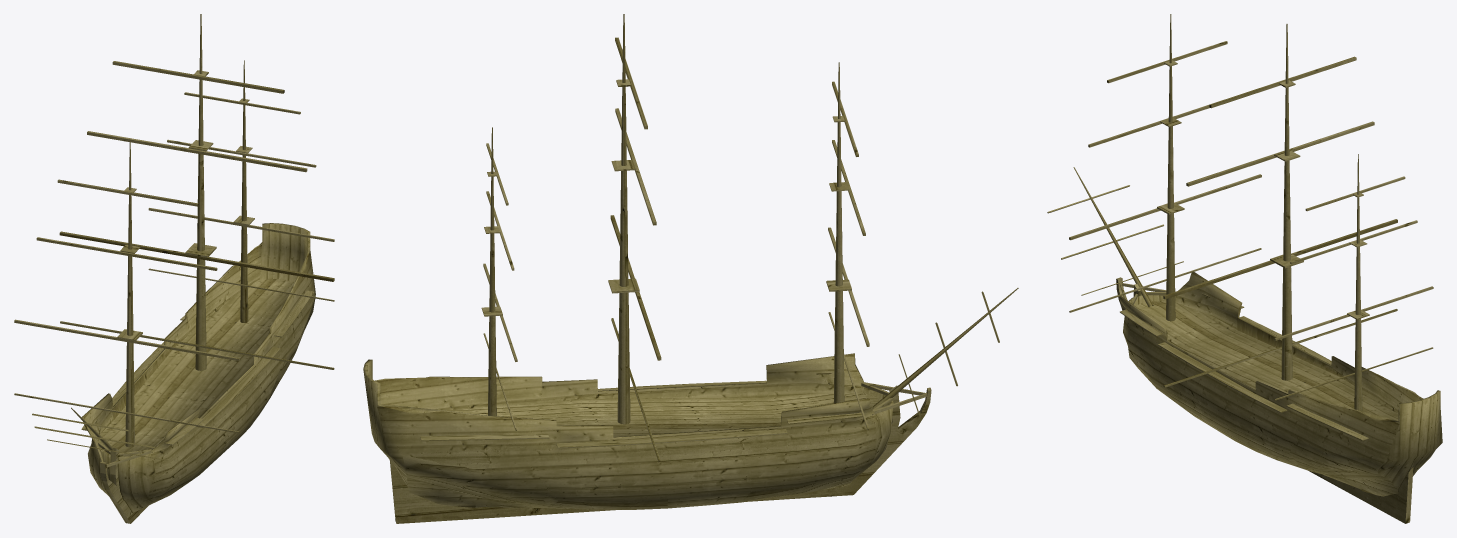
File: ship.obj
3 renders of one model, left to right at view 1: azimuth 30°, elevation 25°; view 2: azimuth 150°, elevation 25°; view 3: azimuth 270°, elevation 25°, orthographic. The views are drawn at different scales.
Visible parts, largest first — view 1: Mesh_Mesh.020_BezierCurve.; view 2: Mesh_Mesh.020_BezierCurve.; view 3: Mesh_Mesh.020_BezierCurve..
Part boxes in pixels (bbox=[...]): Mesh_Mesh.020_BezierCurve.: bbox=[14, 14, 334, 523]; Mesh_Mesh.020_BezierCurve.: bbox=[363, 14, 1018, 523]; Mesh_Mesh.020_BezierCurve.: bbox=[1047, 14, 1442, 523].
Bounding box in the file's own units: 1543 × 1537 × 1276.
Materials: 3 (3 with a texture image).
